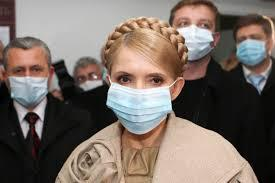OK: (111, 68, 177, 134), (4, 58, 49, 105), (175, 14, 218, 60), (237, 29, 268, 68), (78, 70, 102, 94)
